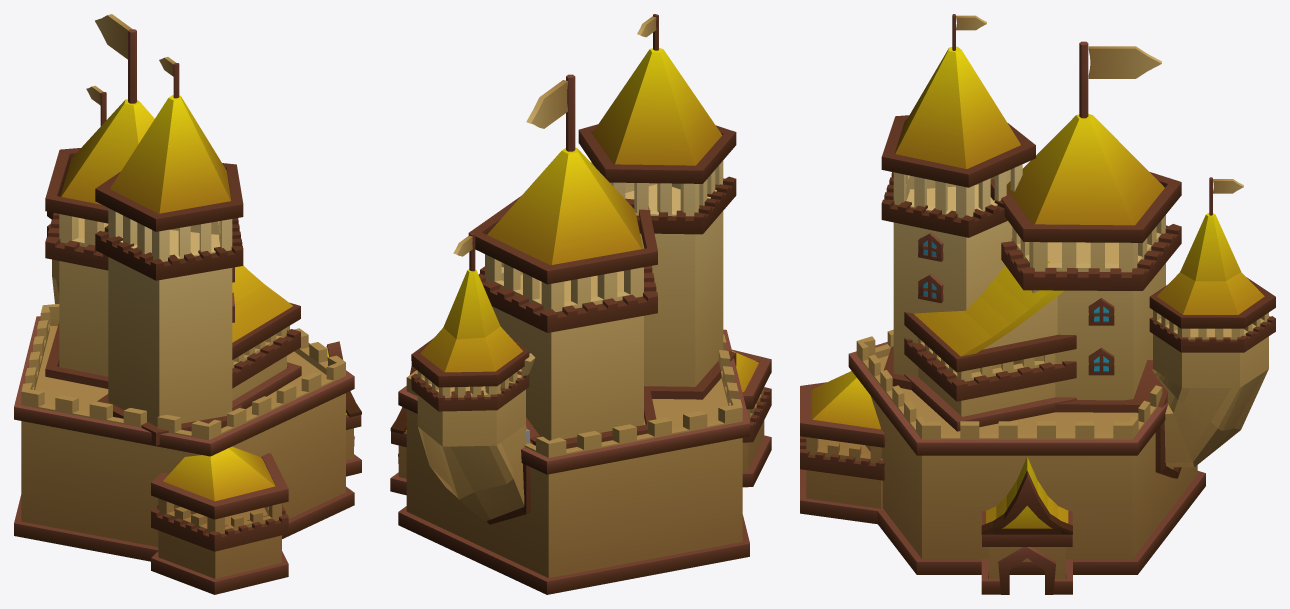
Rendered from city.fbx.
The picture shows the model from 3 angles, left to right: view 1: azimuth 30°, elevation 25°; view 2: azimuth 150°, elevation 25°; view 3: azimuth 270°, elevation 25°; orthographic projection. The views are drawn at different scales.
Parts seen in each view (by area): view 1: Walec.018, Kostka.009, Walec.006, Kostka.014, Walec.025; view 2: Walec.018, Kostka.009, Walec.006, Kostka.014, Walec.025; view 3: Walec.018, Kostka.009, Walec.006, Kostka.014, Kostka.020, Walec.025.
Boxes of the visible parts, box(x1,y1,x2,y2) form: Walec.018: box(21, 208, 353, 578); Kostka.009: box(14, 148, 361, 594); Walec.006: box(60, 95, 347, 501); Kostka.014: box(86, 14, 175, 105); Walec.025: box(100, 29, 179, 126); Walec.018: box(398, 160, 764, 577); Kostka.009: box(390, 124, 771, 594); Walec.006: box(405, 48, 758, 431); Kostka.014: box(453, 16, 656, 256); Walec.025: box(469, 14, 658, 271); Walec.018: box(806, 164, 1268, 578); Kostka.009: box(800, 115, 1275, 594); Walec.006: box(811, 46, 1264, 528); Kostka.014: box(956, 15, 1243, 193); Kostka.020: box(918, 232, 1114, 375); Walec.025: box(952, 14, 1212, 215).
Bounding box in the file's own units: 120 × 164 × 148.
1 material, 1 textured.
